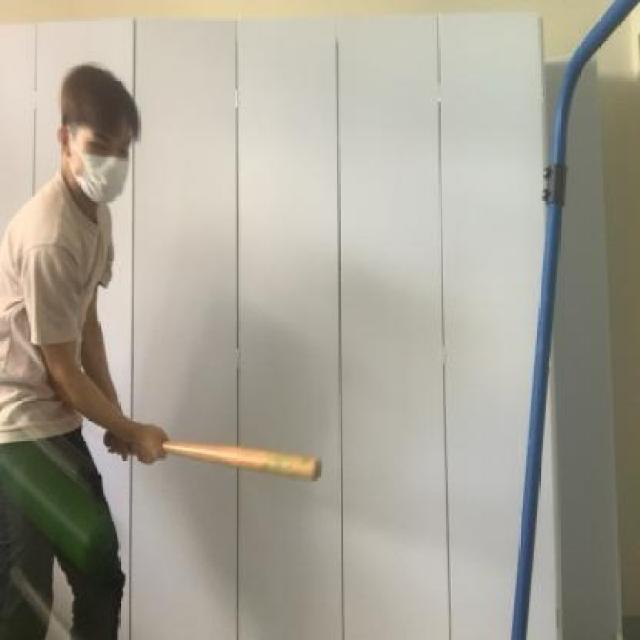baseball: (0, 426, 109, 566)
